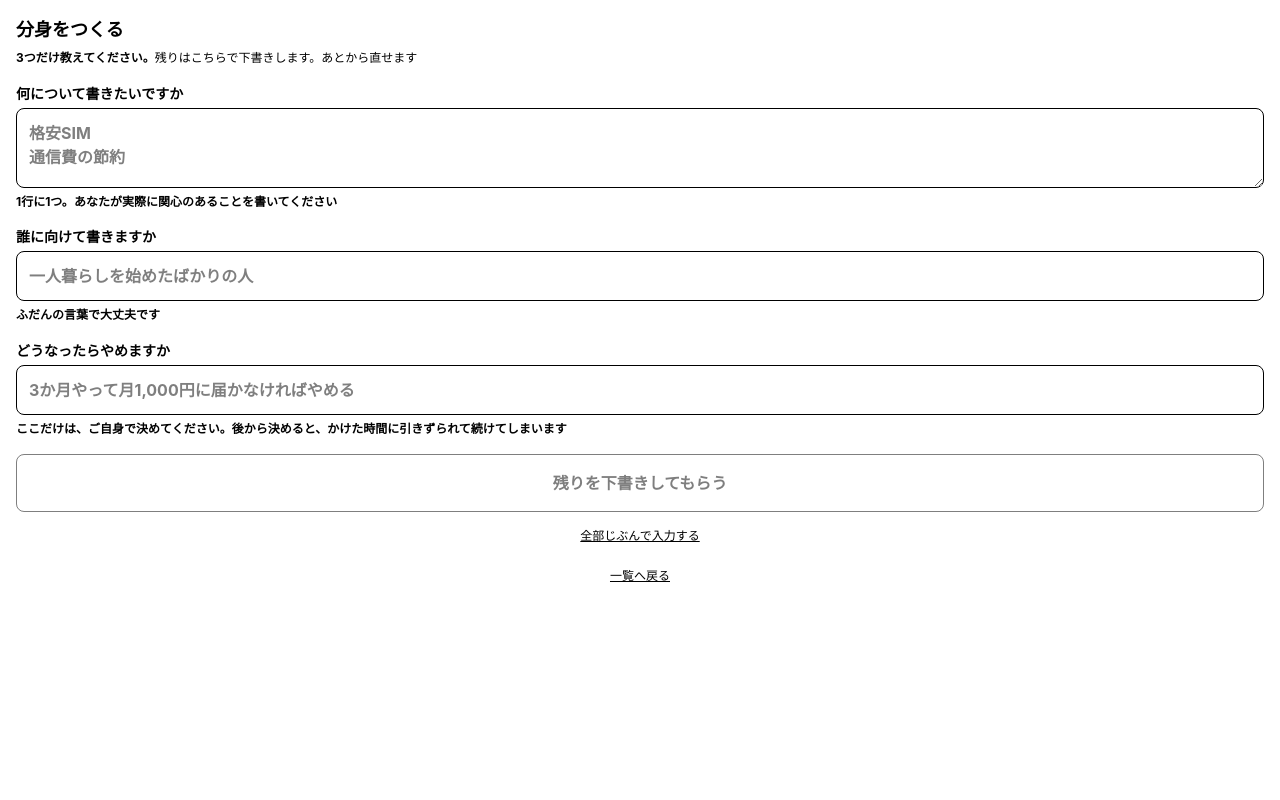
うまくいかないとき › 断られた理由をそのまま出す
The width and height of the screenshot is (1280, 800).
Type "格安SIM" into the text box labelled "何について書きたいですか".
click(640, 148); type("格安SIM")  # box [16,108,1264,188]
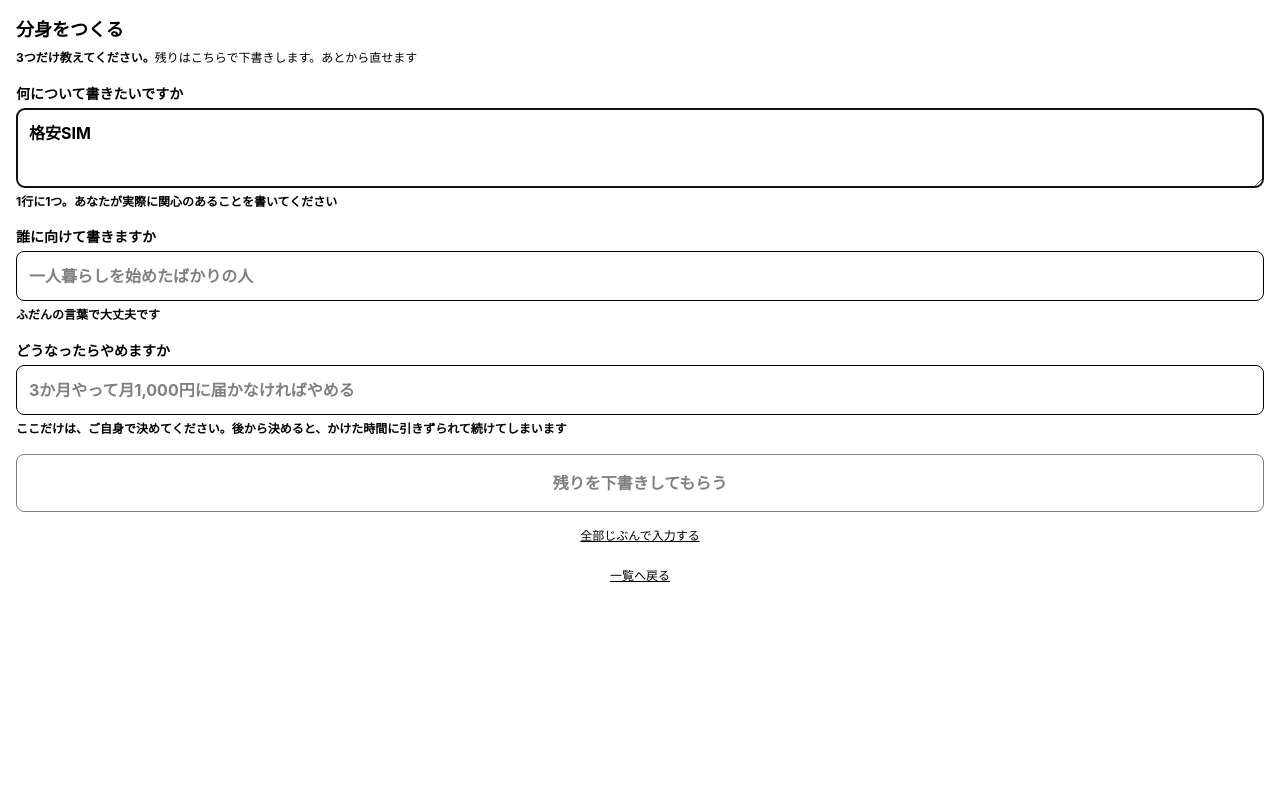
Type "一人暮らし" into the field labelled "誰に向けて書きますか ふだんの言葉で大丈夫です".
click(640, 276); type("一人暮らし")  # box [16,251,1264,301]
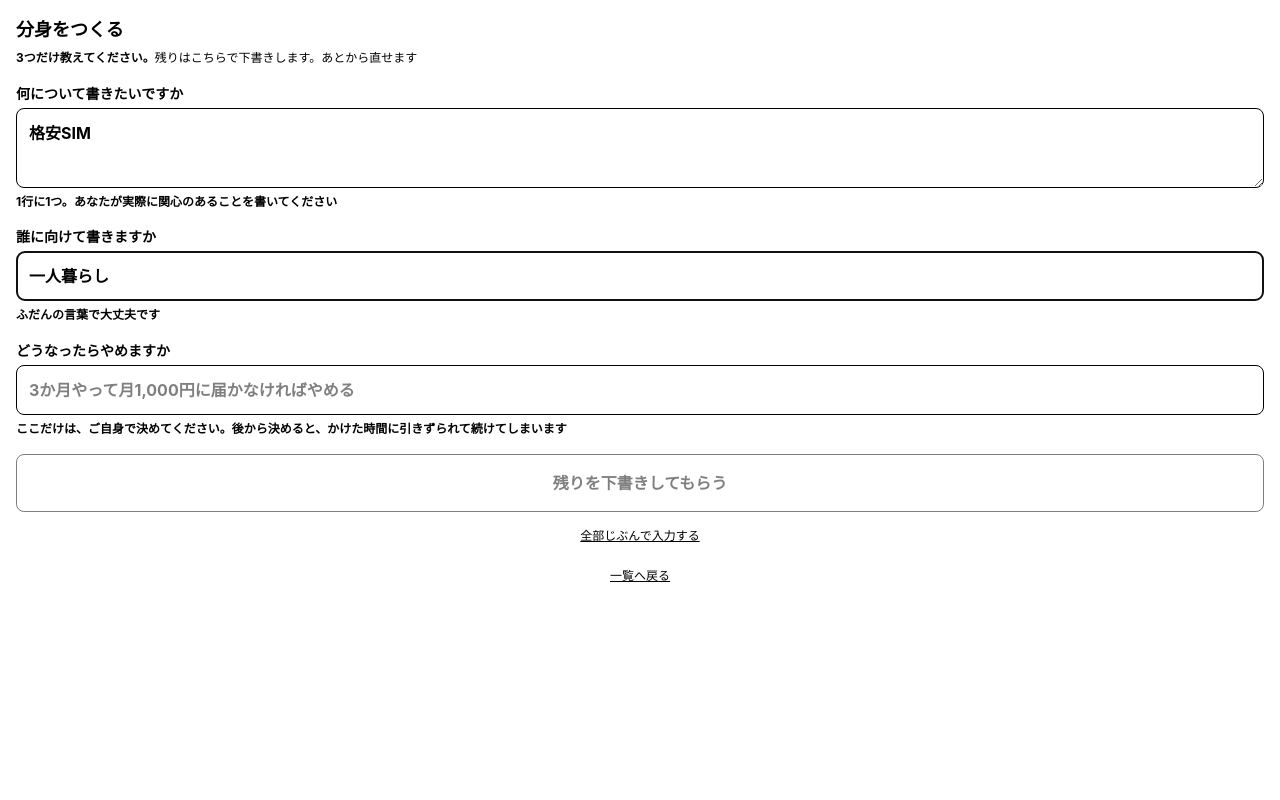
Type "3か月で見直す" into the field labelled "どうなったらやめますか ここだけは、ご自身で決めてください。後から決めると、かけた時間に引きずられて続けてしまいます".
click(640, 390); type("3か月で見直す")  # box [16,364,1264,414]
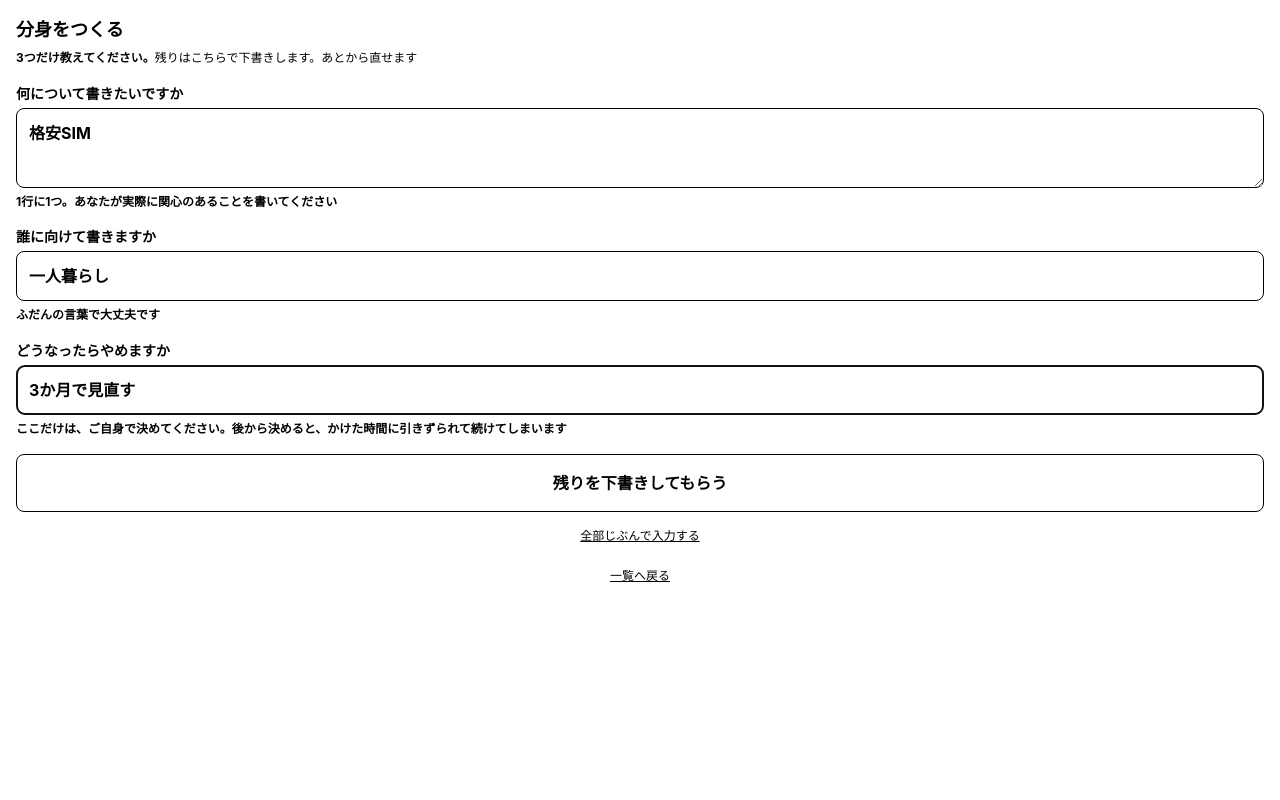
Click the button "残りを下書きしてもらう".
click(640, 483)  # box [16,454,1264,512]
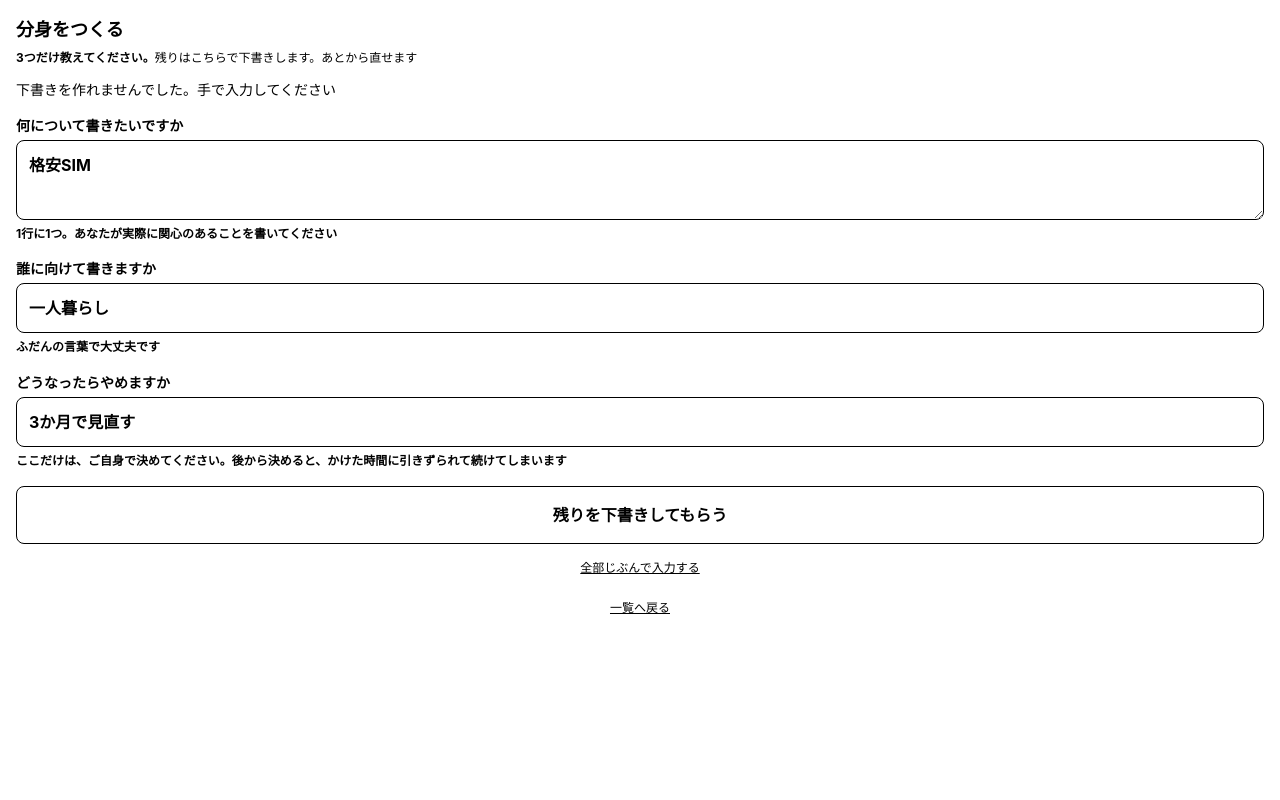
Check: the message reads "下書きを作れませんでした。手で入力してください", box [16,80,336,98]
